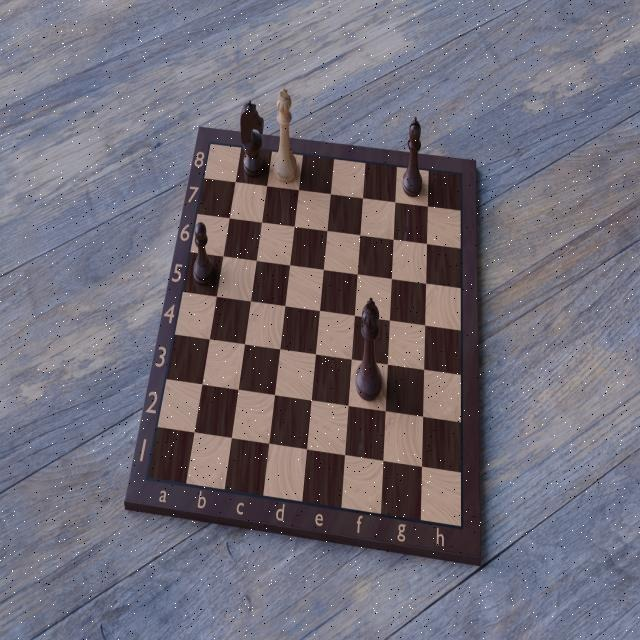black-bishop: (400, 113, 426, 206)
black-king: (351, 295, 386, 405)
black-knight: (238, 96, 266, 183)
black-pawn: (189, 217, 217, 295)
white-king: (268, 84, 300, 185)
